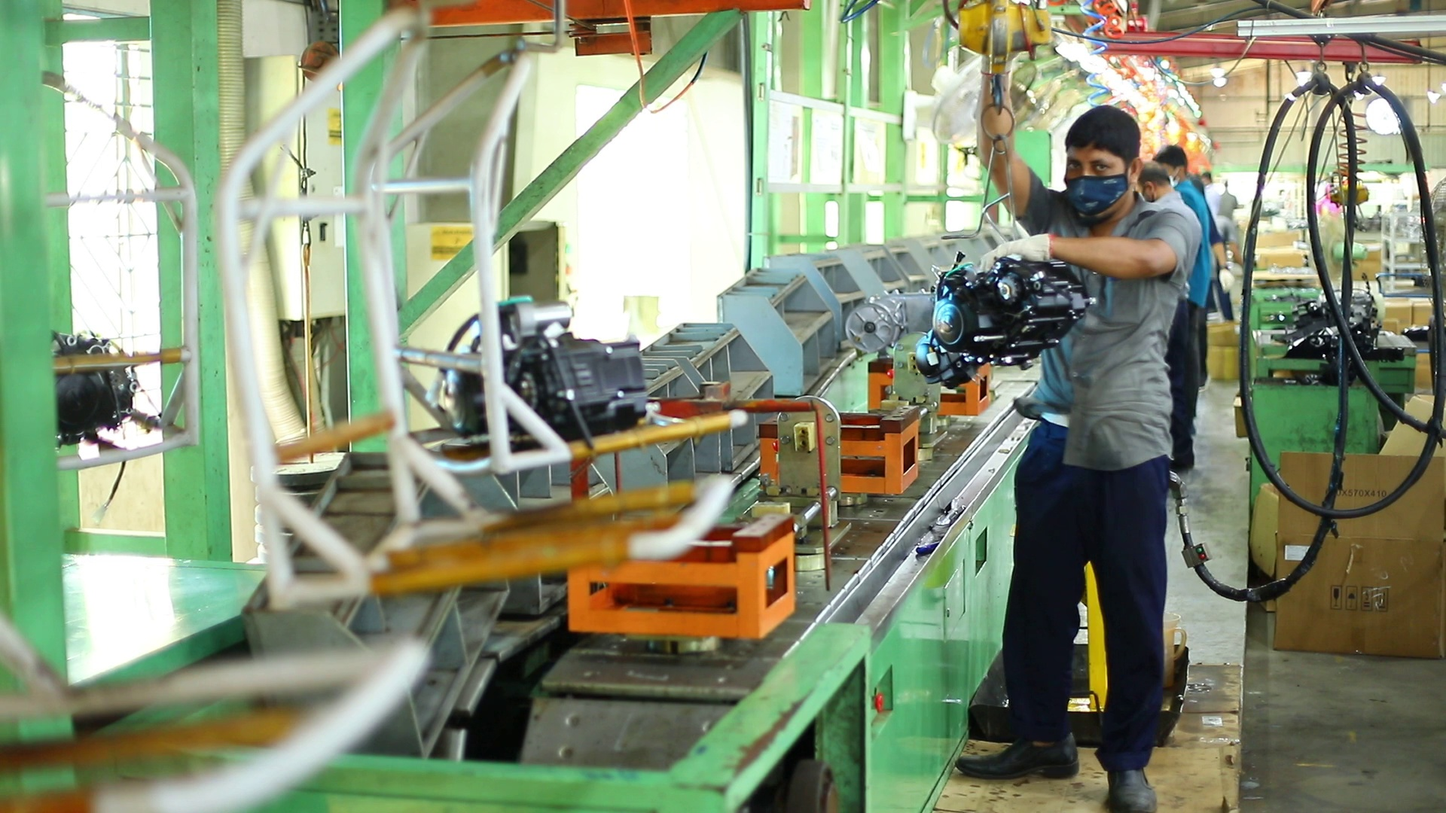mask: (1063, 175, 1131, 218)
person: (958, 83, 1200, 813), (1154, 142, 1226, 487), (1193, 162, 1240, 330), (1134, 161, 1194, 241)
